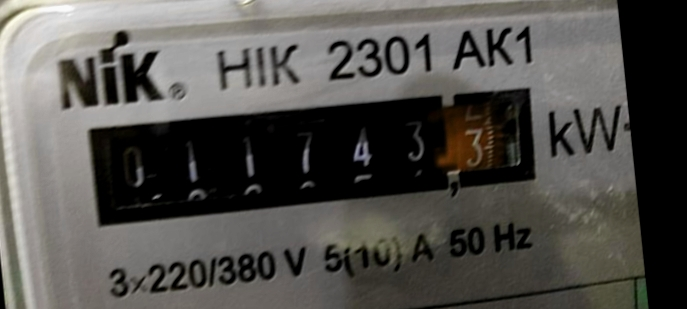0: (116, 141, 150, 191)
1: (236, 131, 261, 181), (181, 137, 203, 186)
3: (399, 116, 432, 165), (460, 124, 488, 170)
4: (345, 120, 378, 171)
7: (292, 127, 320, 177)
screen: (72, 73, 547, 238)
